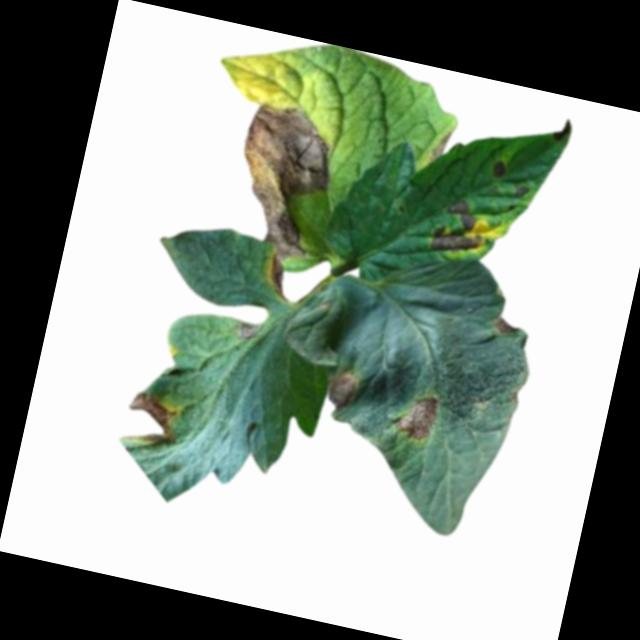Early_blight: (221, 99, 334, 264), (427, 194, 491, 261), (117, 391, 185, 453), (393, 389, 444, 444), (322, 367, 364, 413), (263, 253, 295, 300), (429, 125, 452, 167), (491, 316, 521, 339), (552, 115, 574, 145), (489, 159, 510, 181), (236, 322, 259, 342), (515, 186, 531, 202)
